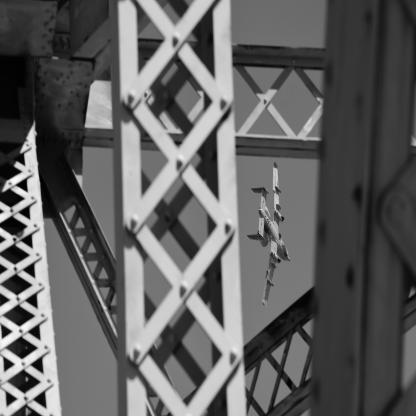A10: (248, 162, 291, 308)
